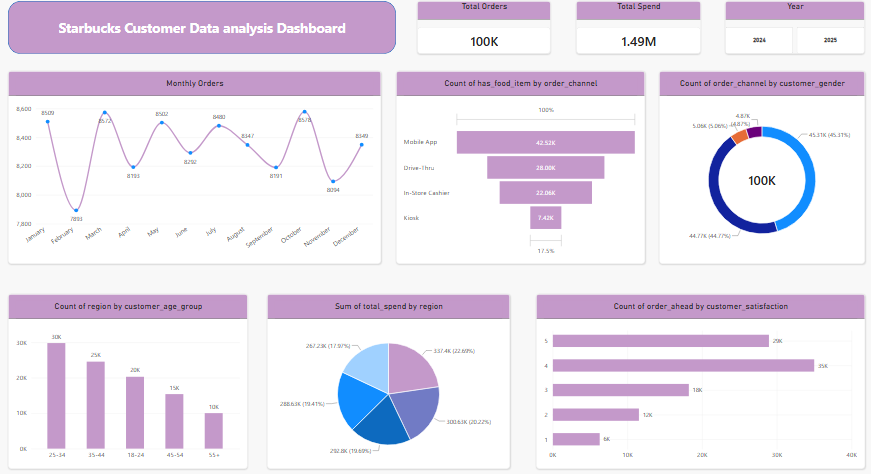

The dashboard page shown, as its layout file describes it:
{"tool":"powerbi","page":{"name":"Page 1","canvas":[1920,1080],"ordinal":0},"visuals":[{"type":"shape","box":[51.8,19.4,838.1,114.5],"z":0},{"type":"cardVisual","title":"Total Orders","fields":{"Data":["CountNonNull(starbucks_customer_ordering_patterns.customer_gender)"]},"box":[935.3,19.4,289.4,114.5],"z":1000},{"type":"cardVisual","title":"Total Spend","fields":{"Data":["Sum(starbucks_customer_ordering_patterns.total_spend)"]},"box":[1278.7,19.4,270,114.5],"z":2000},{"type":"lineChart","title":"Monthly Orders","fields":{"Category":["starbucks_customer_ordering_patterns.order_date.Variation.Date Hierarchy.Month"],"Y":["CountNonNull(starbucks_customer_ordering_patterns.region)"]},"box":[51.8,170.6,805.7,416.9],"z":3000},{"type":"clusteredColumnChart","fields":{"Category":["starbucks_customer_ordering_patterns.customer_age_group"],"Y":["CountNonNull(starbucks_customer_ordering_patterns.region)"]},"box":[51.8,652.3,518.4,378],"z":4000},{"type":"pieChart","fields":{"Category":["starbucks_customer_ordering_patterns.region"],"Y":["Sum(starbucks_customer_ordering_patterns.total_spend)"]},"box":[611.3,652.3,524.9,378],"z":5000},{"type":"funnel","fields":{"Category":["starbucks_customer_ordering_patterns.order_channel"],"Y":["CountNonNull(starbucks_customer_ordering_patterns.has_food_item)"]},"box":[889.9,170.6,537.8,416.9],"z":6000},{"type":"donutChart","fields":{"Y":["CountNonNull(starbucks_customer_ordering_patterns.order_channel)"],"Category":["starbucks_customer_ordering_patterns.customer_gender"]},"box":[1458,170.6,445,416.9],"z":7000},{"type":"clusteredBarChart","fields":{"Category":["starbucks_customer_ordering_patterns.customer_satisfaction"],"Y":["CountNonNull(starbucks_customer_ordering_patterns.order_ahead)"]},"box":[1192.3,652.3,710.6,378],"z":8000},{"type":"advancedSlicerVisual","fields":{"Values":["starbucks_customer_ordering_patterns.order_date.Variation.Date Hierarchy.Year"]},"box":[1600.6,19.4,302.4,114.5],"z":9000}]}

Visuals, with their boxes on the page's 1920x1080 design canvas (x1, y1, x2, y2). These are canvas units, not pixel positions in the 871x474 screenshot, which may show the page scaled, cropped or inside an application window:
shape: [left=52, top=19, right=890, bottom=134]
"Total Orders" cardVisual: [left=935, top=19, right=1225, bottom=134]
"Total Spend" cardVisual: [left=1279, top=19, right=1549, bottom=134]
"Monthly Orders" lineChart: [left=52, top=171, right=858, bottom=588]
clusteredColumnChart - starbucks_customer_ordering_patterns.customer_age_group x CountNonNull(starbucks_customer_ordering_patterns.region): [left=52, top=652, right=570, bottom=1030]
pieChart - starbucks_customer_ordering_patterns.region x Sum(starbucks_customer_ordering_patterns.total_spend): [left=611, top=652, right=1136, bottom=1030]
funnel - starbucks_customer_ordering_patterns.order_channel x CountNonNull(starbucks_customer_ordering_patterns.has_food_item): [left=890, top=171, right=1428, bottom=588]
donutChart - CountNonNull(starbucks_customer_ordering_patterns.order_channel) x starbucks_customer_ordering_patterns.customer_gender: [left=1458, top=171, right=1903, bottom=588]
clusteredBarChart - starbucks_customer_ordering_patterns.customer_satisfaction x CountNonNull(starbucks_customer_ordering_patterns.order_ahead): [left=1192, top=652, right=1903, bottom=1030]
advancedSlicerVisual - starbucks_customer_ordering_patterns.order_date.Variation.Date Hierarchy.Year: [left=1601, top=19, right=1903, bottom=134]
